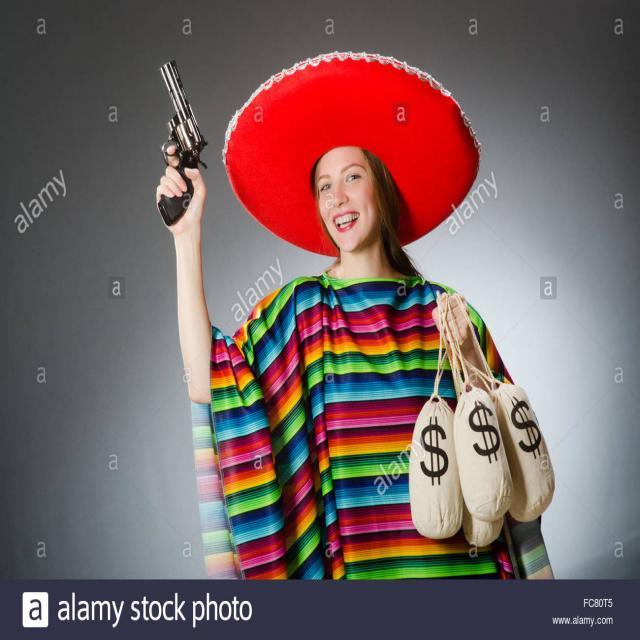weapon: (141, 51, 209, 226)
